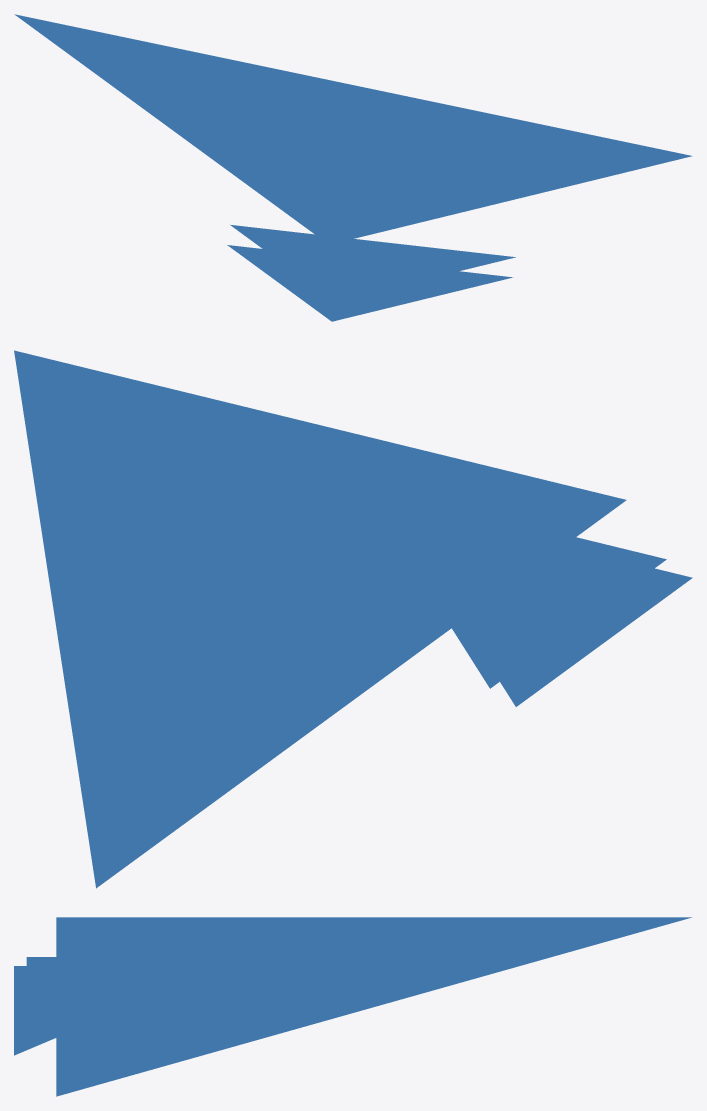
3 views of the same model, one above another, from view 1: azimuth 30°, elevation 25°; view 2: azimuth 150°, elevation 25°; view 3: azimuth 270°, elevation 25° (orthographic). The views are drawn at different scales.
Visible parts, largest first — view 1: first, second, third; view 2: first, second, third; view 3: first, second, third.
Boxes of the visible parts, bbox=[...] form: first: bbox=[14, 14, 692, 244]; second: bbox=[230, 225, 515, 301]; third: bbox=[227, 245, 513, 321]; first: bbox=[14, 350, 626, 888]; second: bbox=[452, 537, 666, 688]; third: bbox=[500, 568, 692, 706]; first: bbox=[56, 917, 691, 1096]; second: bbox=[26, 957, 56, 1046]; third: bbox=[14, 966, 56, 1055].
Size of the model in its own units: 210 by 320 by 30.
